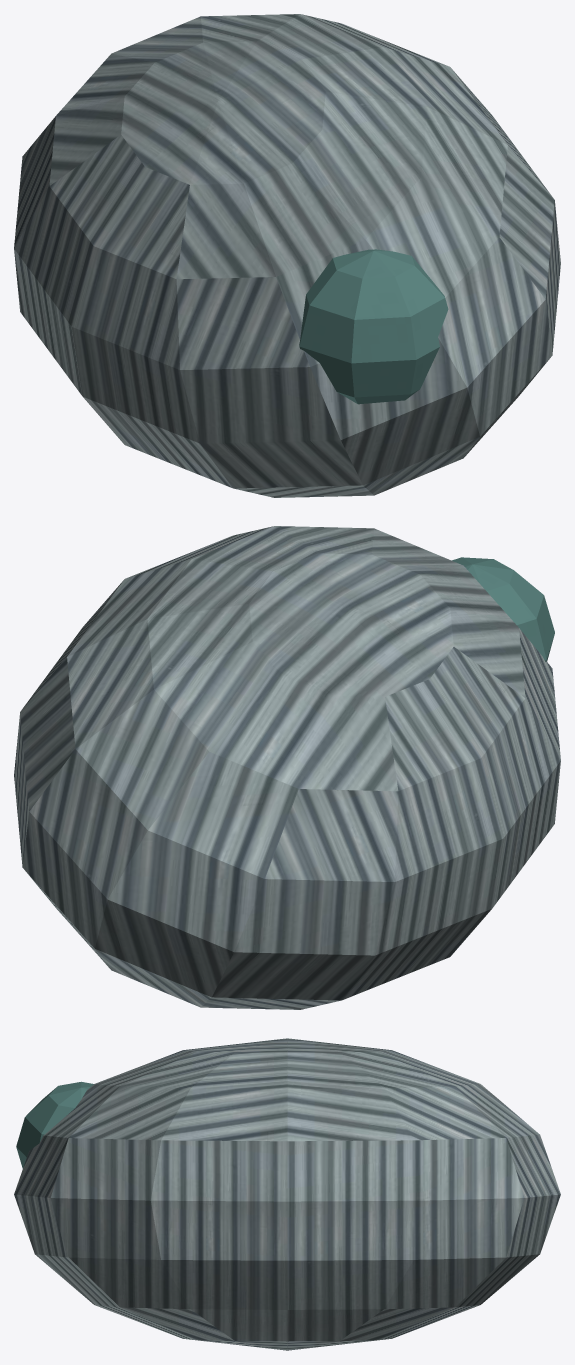
The model's file is crossing_pod_01.glb.
The picture shows the model from 3 angles, top to bottom: view 1: azimuth 30°, elevation 25°; view 2: azimuth 150°, elevation 25°; view 3: azimuth 270°, elevation 25°; orthographic projection. The views are drawn at different scales.
Parts seen in each view (by area): view 1: crossing_pod_01; view 2: crossing_pod_01; view 3: crossing_pod_01.
Part boxes in pixels (box(x1,y1,x2,y2)): crossing_pod_01: box(14, 14, 560, 497); crossing_pod_01: box(14, 526, 560, 1009); crossing_pod_01: box(14, 1038, 560, 1350).
Bounding box in the file's own units: 1.75 × 1.49 × 2.52.
2 materials, 2 textured.
